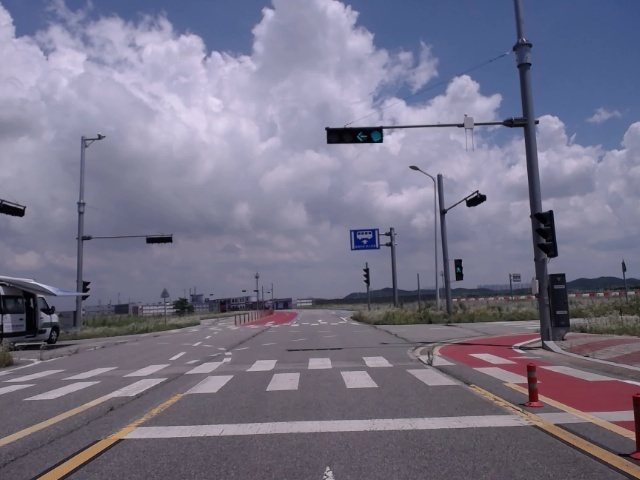all_green_4: (329, 129, 385, 143)
